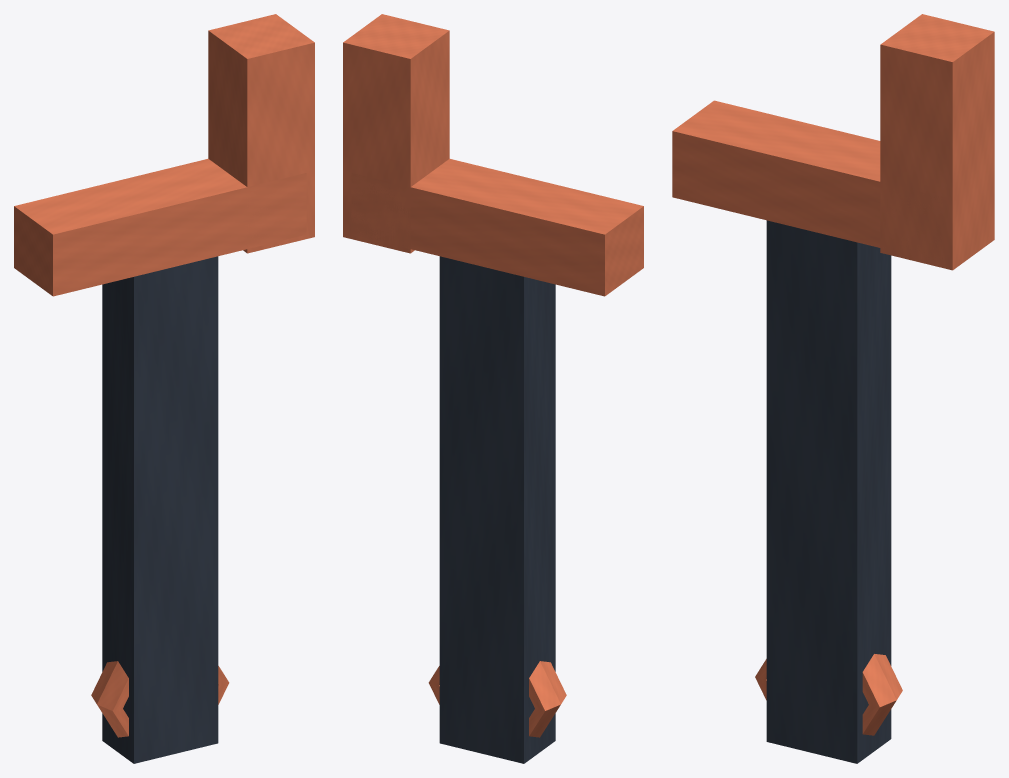
The model's file is atlas100-s025-a05.lod2.glb.
The picture shows the model from 3 angles, left to right: view 1: azimuth 30°, elevation 25°; view 2: azimuth 150°, elevation 25°; view 3: azimuth 330°, elevation 25°; orthographic projection. The views are drawn at different scales.
Visible parts, largest first — view 1: atlas100-s025-a05:part-000, atlas100-s025-a05:part-003, atlas100-s025-a05:part-002, atlas100-s025-a05:part-004; view 2: atlas100-s025-a05:part-000, atlas100-s025-a05:part-003, atlas100-s025-a05:part-002, atlas100-s025-a05:part-004; view 3: atlas100-s025-a05:part-000, atlas100-s025-a05:part-002, atlas100-s025-a05:part-003, atlas100-s025-a05:part-004.
Part boxes in pixels (x1=…): atlas100-s025-a05:part-000: x1=102, y1=256, x2=218, y2=763; atlas100-s025-a05:part-003: x1=14, y1=158, x2=306, y2=296; atlas100-s025-a05:part-002: x1=208, y1=14, x2=314, y2=253; atlas100-s025-a05:part-004: x1=91, y1=661, x2=229, y2=737; atlas100-s025-a05:part-000: x1=439, y1=256, x2=555, y2=763; atlas100-s025-a05:part-003: x1=351, y1=158, x2=643, y2=296; atlas100-s025-a05:part-002: x1=343, y1=14, x2=449, y2=253; atlas100-s025-a05:part-004: x1=428, y1=661, x2=566, y2=737; atlas100-s025-a05:part-000: x1=766, y1=220, x2=891, y2=763; atlas100-s025-a05:part-002: x1=880, y1=14, x2=994, y2=270; atlas100-s025-a05:part-003: x1=672, y1=100, x2=943, y2=262; atlas100-s025-a05:part-004: x1=755, y1=654, x2=902, y2=735.
Size of the model in its own units: 0.3385 by 0.8462 by 0.0874.
2 materials, 2 textured.
